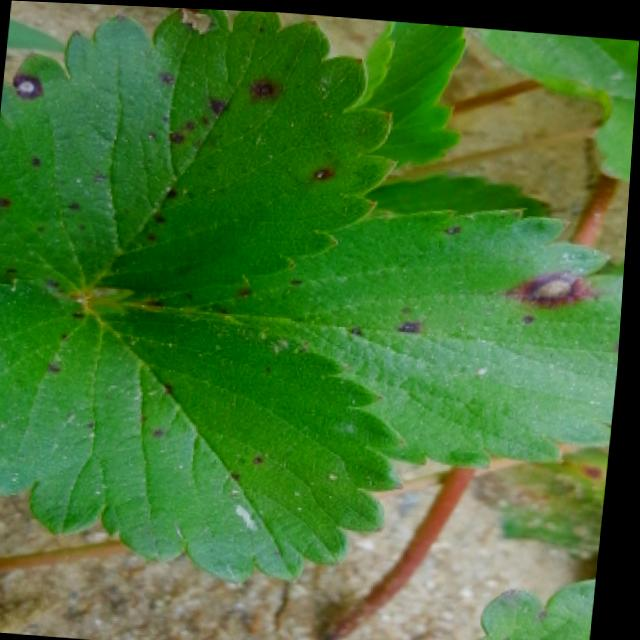Leaf Spot: (154, 201, 627, 466), (0, 277, 408, 580), (0, 6, 400, 301)
